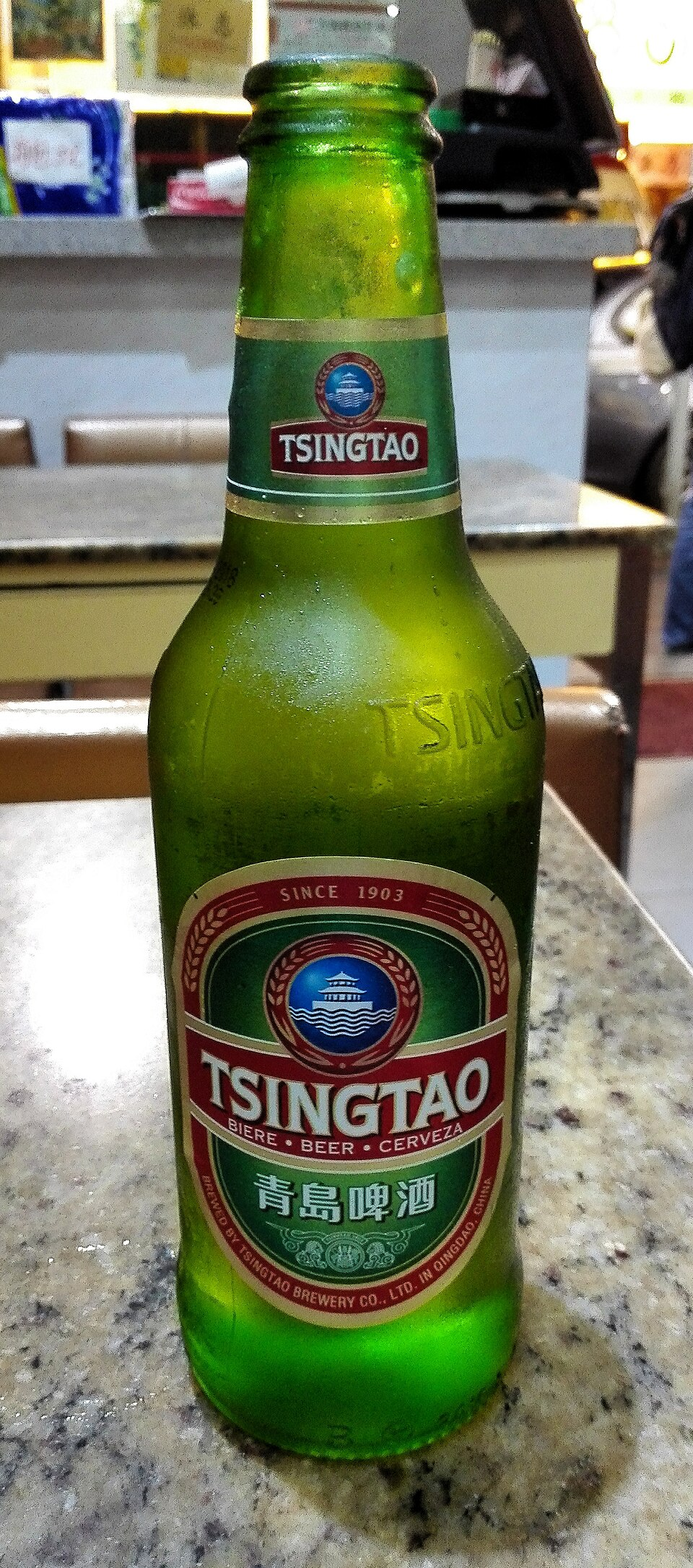beer-bottle: (124, 35, 569, 1488)
